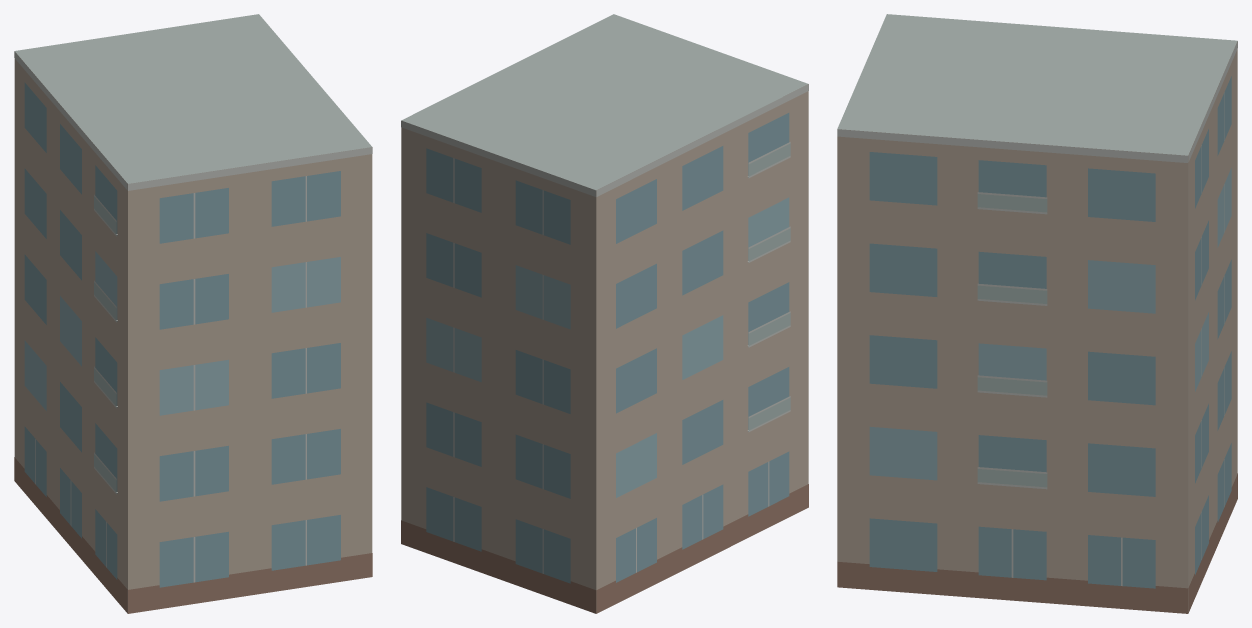
File: survey-upis-32536312.glb
The picture shows the model from 3 angles, left to right: view 1: azimuth 30°, elevation 25°; view 2: azimuth 150°, elevation 25°; view 3: azimuth 270°, elevation 25°; orthographic projection. The views are drawn at different scales.
Parts seen in each view (by area): view 1: survey-upis-32536312.tmp; view 2: survey-upis-32536312.tmp; view 3: survey-upis-32536312.tmp.
Boxes of the visible parts, x1,y1,x2,y2 form: survey-upis-32536312.tmp: (14,14,372,613); survey-upis-32536312.tmp: (401,14,808,613); survey-upis-32536312.tmp: (837,14,1237,613).
Bounding box in the file's own units: 9.96 × 15 × 11.89.
